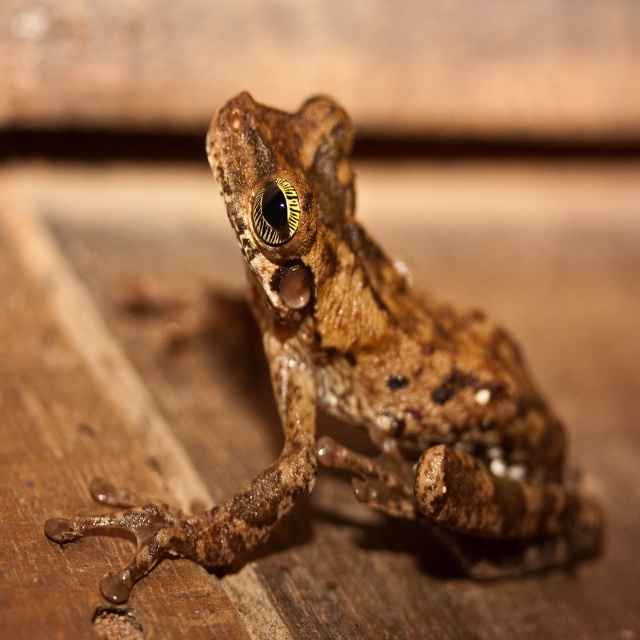Frog: (42, 86, 609, 606)
